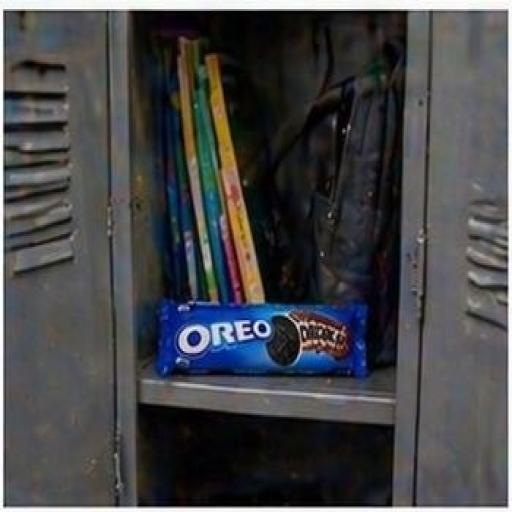oreo: (123, 243, 396, 447)
